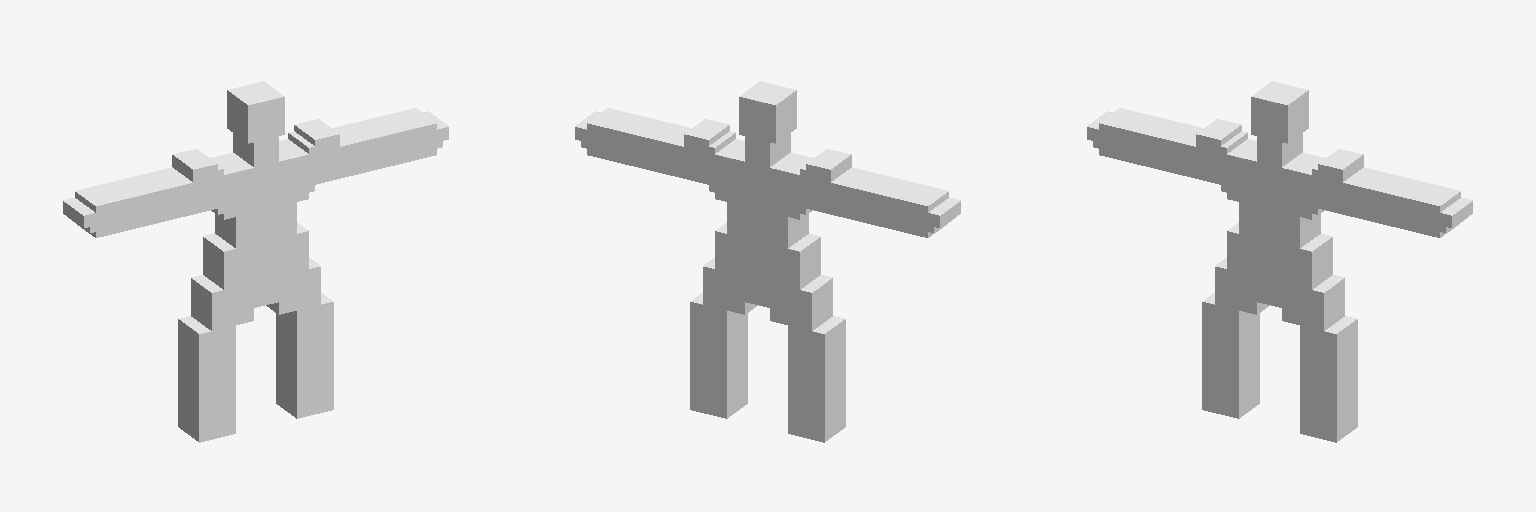
File: FireEmblem_Spear.obj
The picture shows the model from 3 angles: view 1: azimuth 30°, elevation 25°; view 2: azimuth 150°, elevation 25°; view 3: azimuth 330°, elevation 25°; orthographic projection.
Bounding box in the file's own units: 60 × 51 × 6.